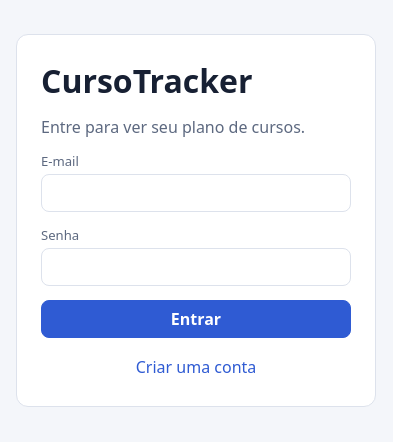
it: App › shows a clear message for a wrong password
The image size is (393, 442).
In the field labelled "E-mail": (196, 192) [41,174,351,212], type "ana@example.com"
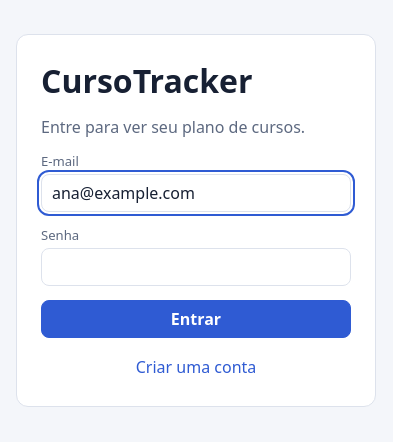
In the password field labelled "Senha": (196, 266) [41,248,351,286], type "errada123"
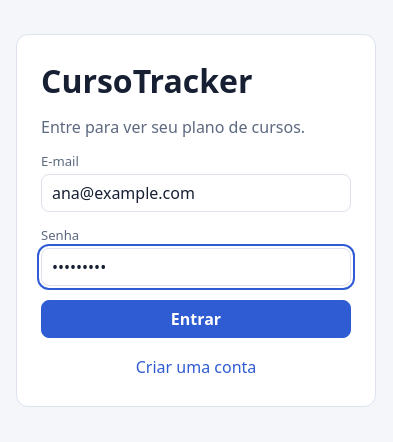
Click the button "Entrar": (196, 318) [41,300,351,338]
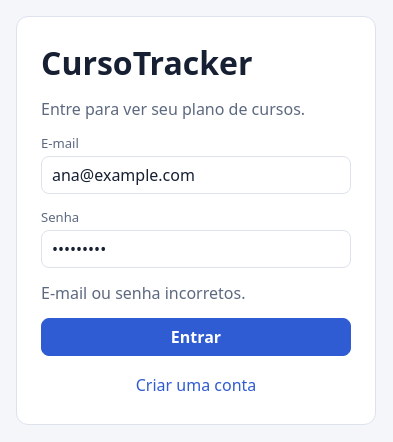
Expected: the message reads "E-mail ou senha incorretos.", [41,282,245,304]
